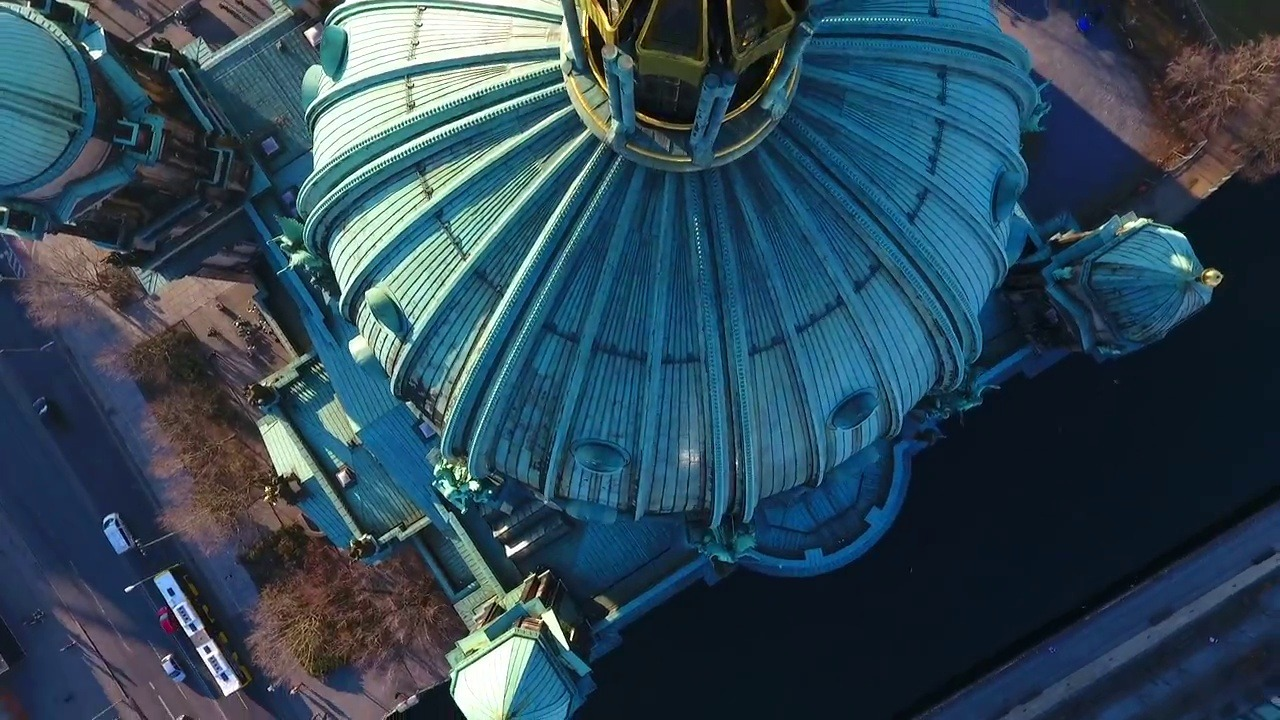bus: (148, 566, 209, 642), (189, 629, 253, 701)
car: (155, 650, 190, 688), (149, 601, 182, 641)
van: (97, 512, 139, 559)
